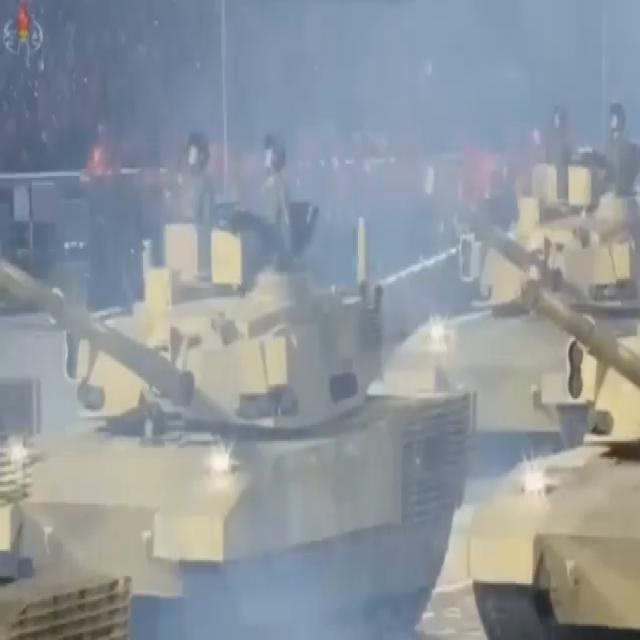north tank: (2, 231, 476, 640), (370, 130, 640, 456), (466, 259, 639, 640)
